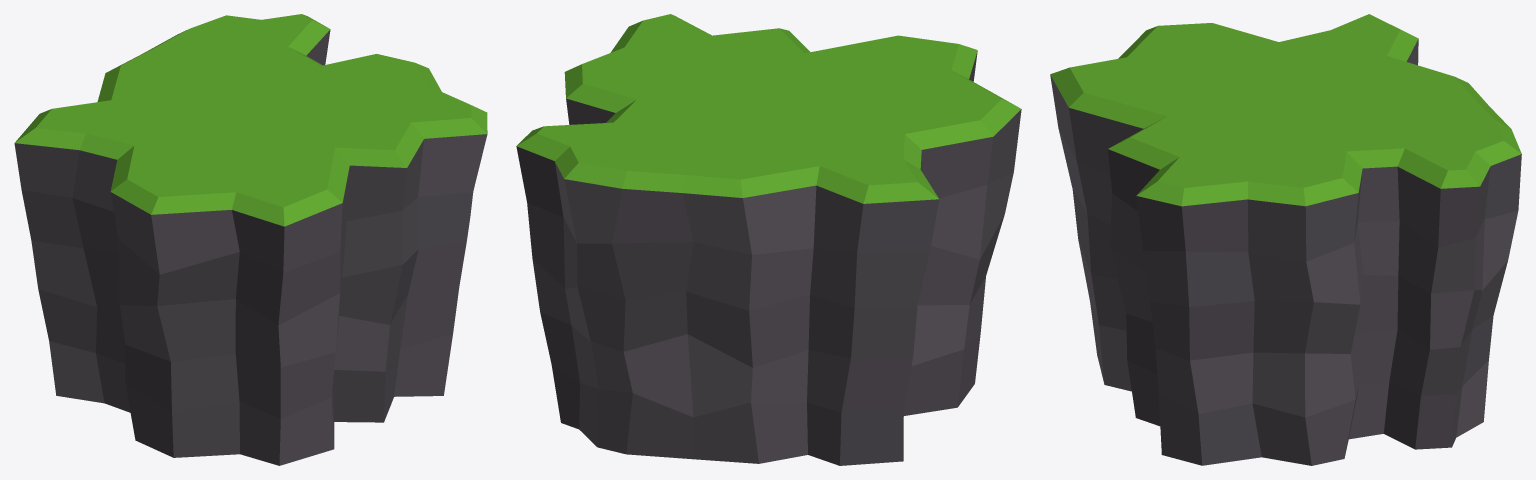
Rendered from Cliff01.fbx.
The picture shows the model from 3 angles, left to right: view 1: azimuth 30°, elevation 25°; view 2: azimuth 150°, elevation 25°; view 3: azimuth 270°, elevation 25°; orthographic projection. The views are drawn at different scales.
Visible parts, largest first — view 1: Plane; view 2: Plane; view 3: Plane.
Boxes of the visible parts, x1=… form: Plane: x1=14, y1=14, x2=487, y2=465; Plane: x1=516, y1=14, x2=1021, y2=465; Plane: x1=1050, y1=14, x2=1521, y2=465.
Bounding box in the file's own units: 1970 × 1348 × 2007.
